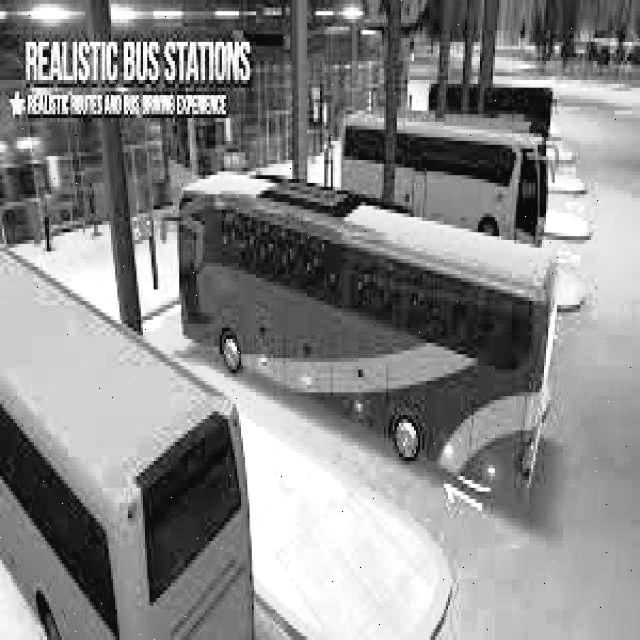Bus: (174, 159, 563, 502), (0, 239, 260, 640), (342, 104, 547, 246)
